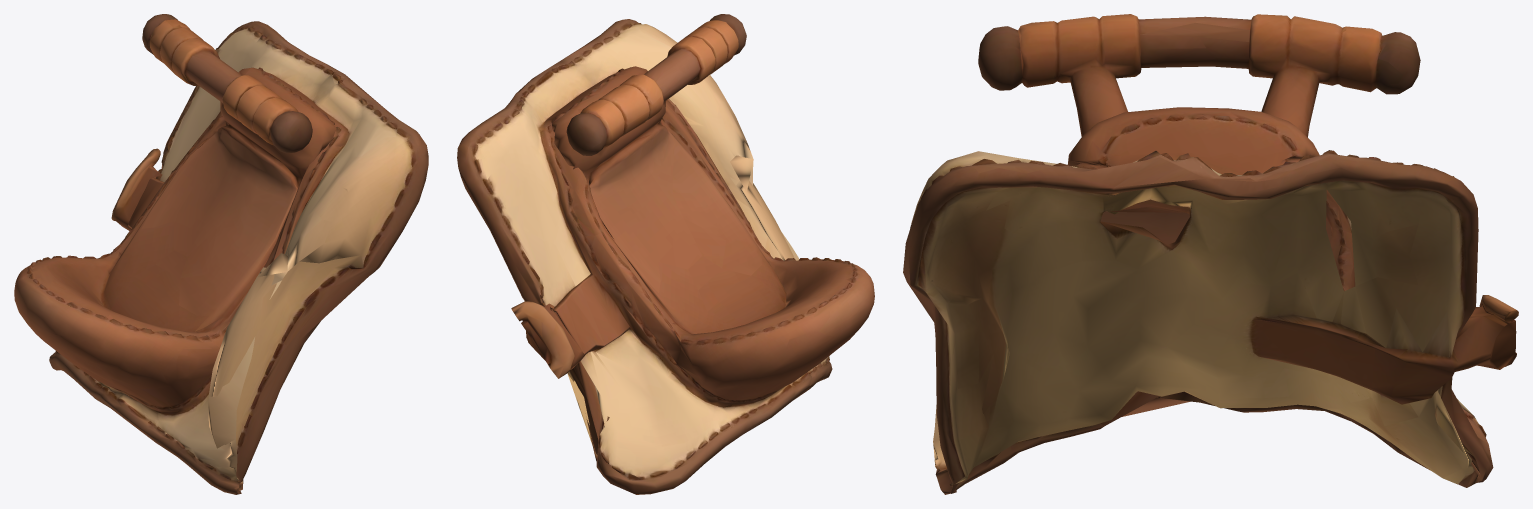
File: pteranodon-saddle.glb
3 renders of one model, left to right at view 1: azimuth 30°, elevation 25°; view 2: azimuth 150°, elevation 25°; view 3: azimuth 270°, elevation 25°, orthographic. The views are drawn at different scales.
Visible parts, largest first — view 1: Hnakkur; view 2: Hnakkur; view 3: Hnakkur.
Part boxes in pixels (x1,y1,x2,y2): Hnakkur: [14, 14, 428, 494]; Hnakkur: [457, 14, 874, 494]; Hnakkur: [903, 14, 1518, 494].
Size of the model in its own units: 0.654 by 0.6937 by 0.7384.
Materials: 1 (1 with a texture image).
